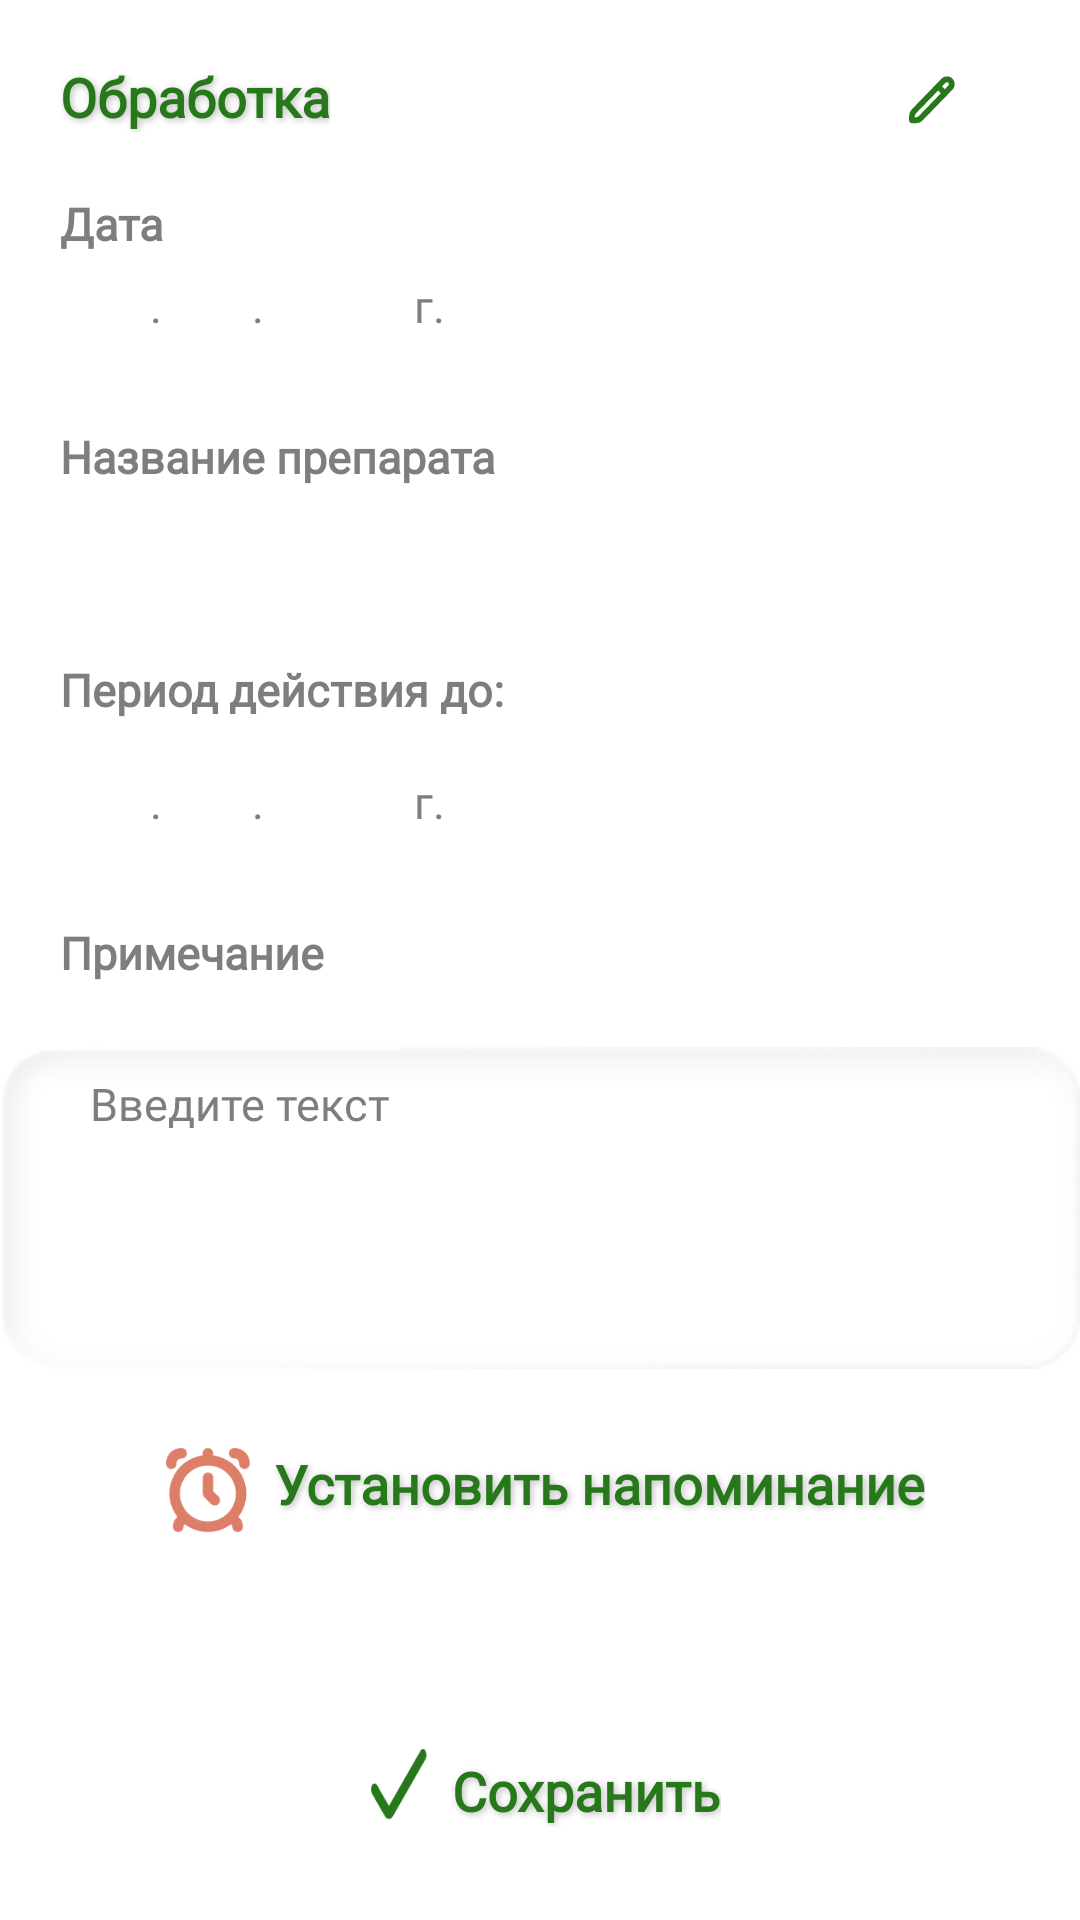

Point at icon controls on the screen. Image size 1080×1920, points as (x,y).
choice: (399,1784)
clock: (208,1490)
pen: (932,100)
